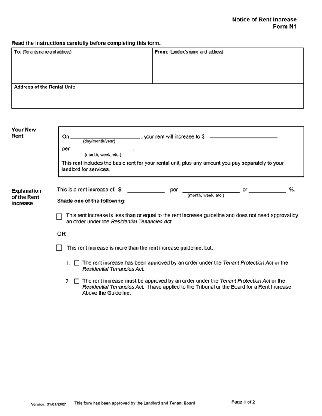checkbox: (54, 211, 63, 221), (54, 244, 63, 252), (72, 277, 80, 286), (73, 259, 81, 267)
textbox: (9, 81, 307, 112), (151, 45, 304, 86), (10, 45, 155, 86)
textline: (70, 130, 140, 142), (181, 183, 241, 195), (208, 131, 279, 140), (72, 143, 132, 153), (248, 182, 287, 195), (125, 185, 166, 195)
